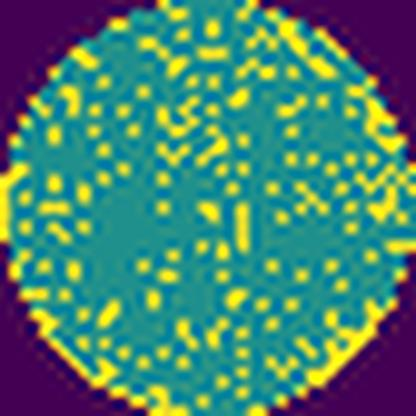Edge-Loc: (304, 291, 404, 390), (0, 161, 25, 249)
